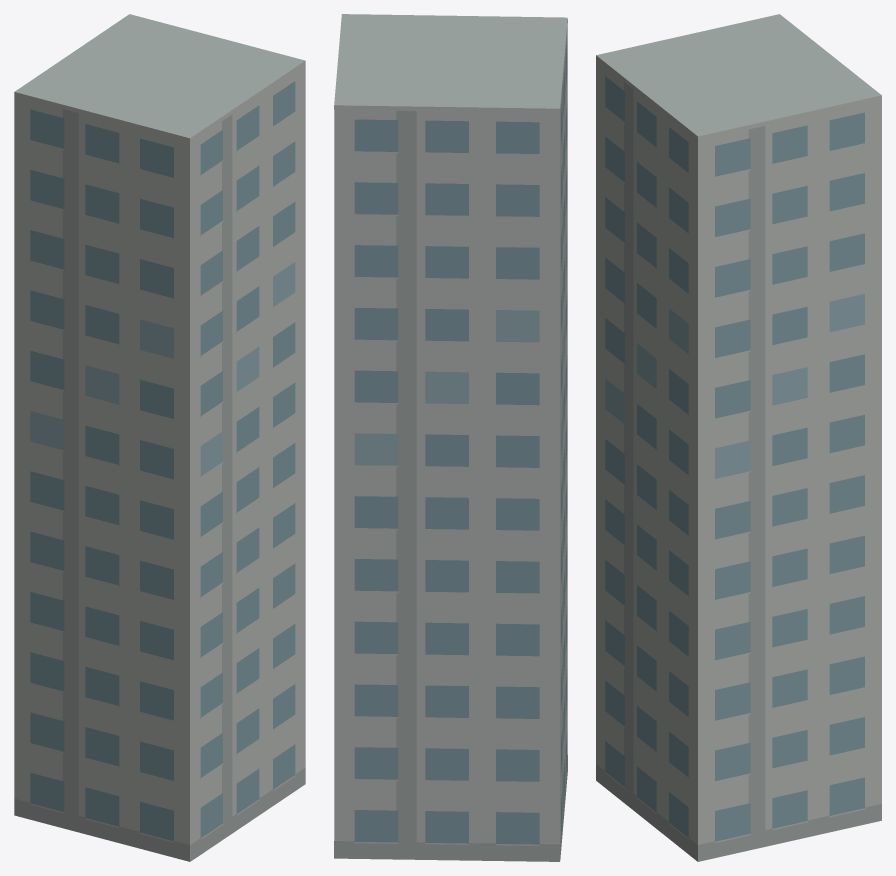
Rendered from residential-e86e06ea-5861-49e8-9045-57e57db3f50d.glb.
The picture shows the model from 3 angles, left to right: view 1: azimuth 30°, elevation 25°; view 2: azimuth 150°, elevation 25°; view 3: azimuth 270°, elevation 25°; orthographic projection. The views are drawn at different scales.
Visible parts, largest first — view 1: residential-e86e06ea-5861-49e8-9045-57e57db3f50d.tmp; view 2: residential-e86e06ea-5861-49e8-9045-57e57db3f50d.tmp; view 3: residential-e86e06ea-5861-49e8-9045-57e57db3f50d.tmp.
Part boxes in pixels (x1,y1,x2,y2): residential-e86e06ea-5861-49e8-9045-57e57db3f50d.tmp: (14,14,305,861); residential-e86e06ea-5861-49e8-9045-57e57db3f50d.tmp: (334,14,567,861); residential-e86e06ea-5861-49e8-9045-57e57db3f50d.tmp: (596,14,881,861).
Size of the model in its own units: 14.86 by 41 by 14.65.
